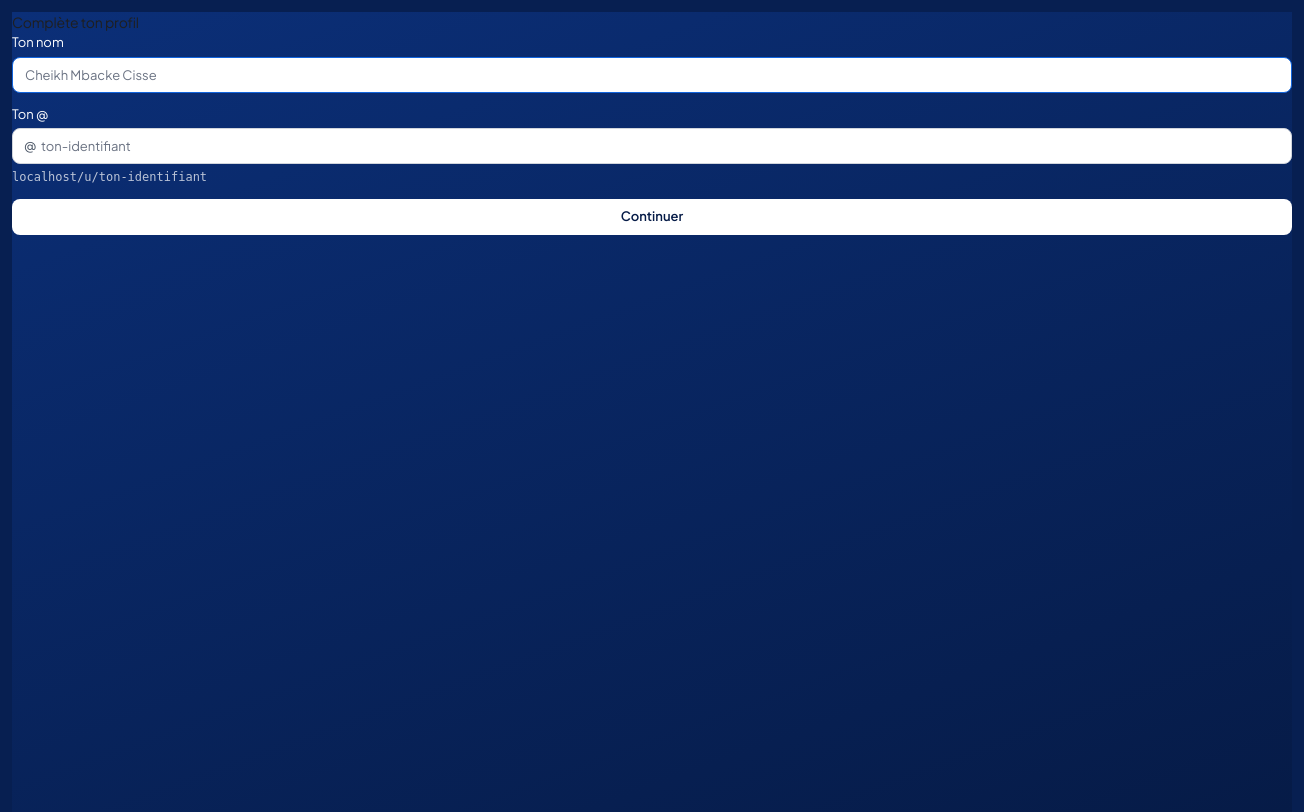
CompleteProfilePage › tire le @ du nom, sans accents ni espaces, et montre la carte de profil
Type "Aïssatou Ndiaye" into the field labelled "Ton nom" at (652, 74), box [12,56,1292,92]
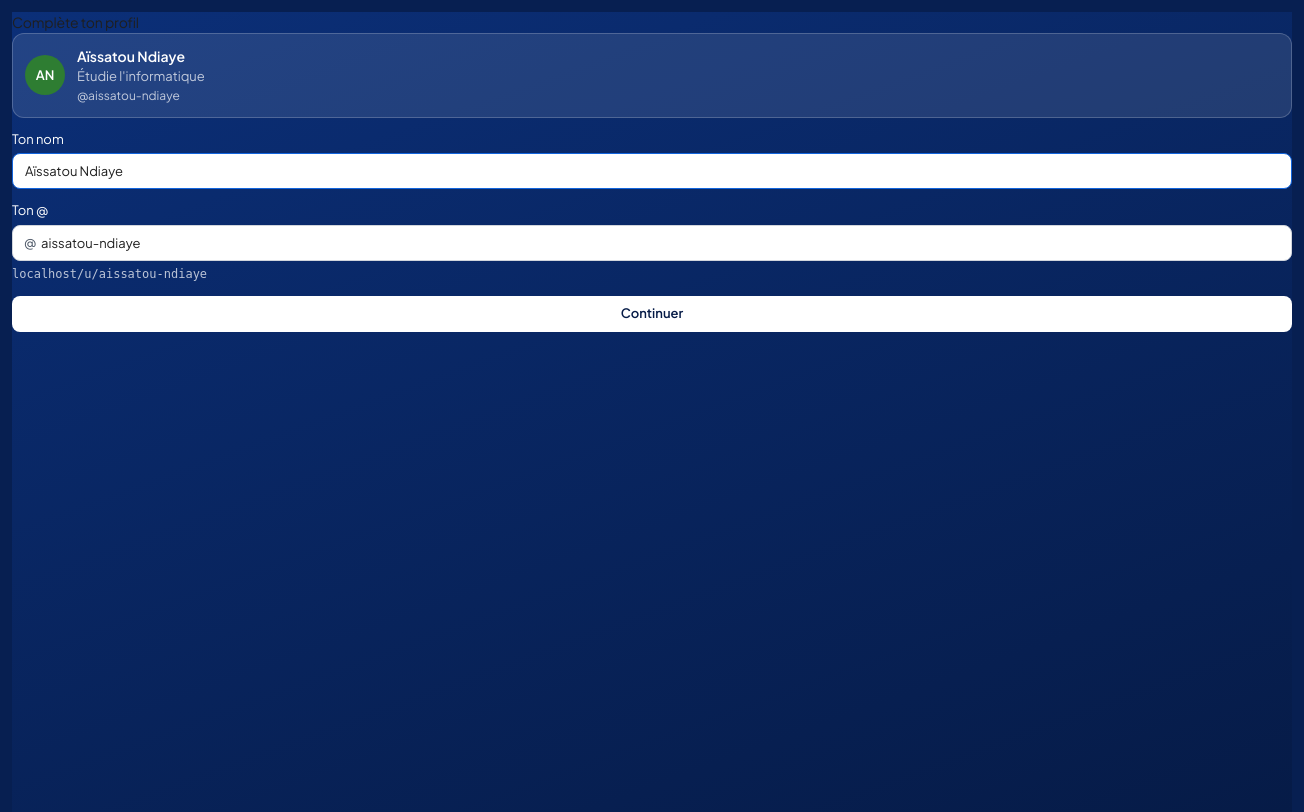
Expected: the field labelled "Ton @" holds "aissatou-ndiaye", [12,224,1292,260]
Expected: the element named "Aperçu de ton profil" shows "Aïssatou Ndiaye", [77,47,185,65]
Expected: the element named "Aperçu de ton profil" shows "Étudie l'informatique", [77,68,205,84]
